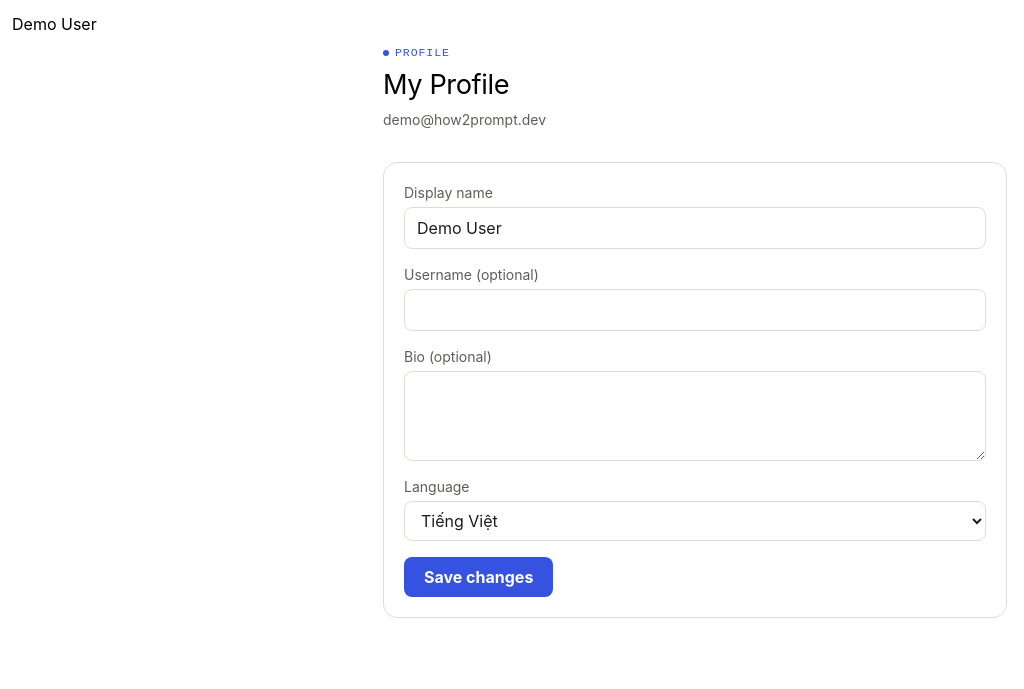
Scenario: ProfileSettingsPage › saves a display-name change and reflects it immediately without reload (Acceptance 2)
The width and height of the screenshot is (1024, 689).
Replace the text in the field labelled "Display name" with "New Name". click: {"x": 695, "y": 228}
box: [404,207,986,249]
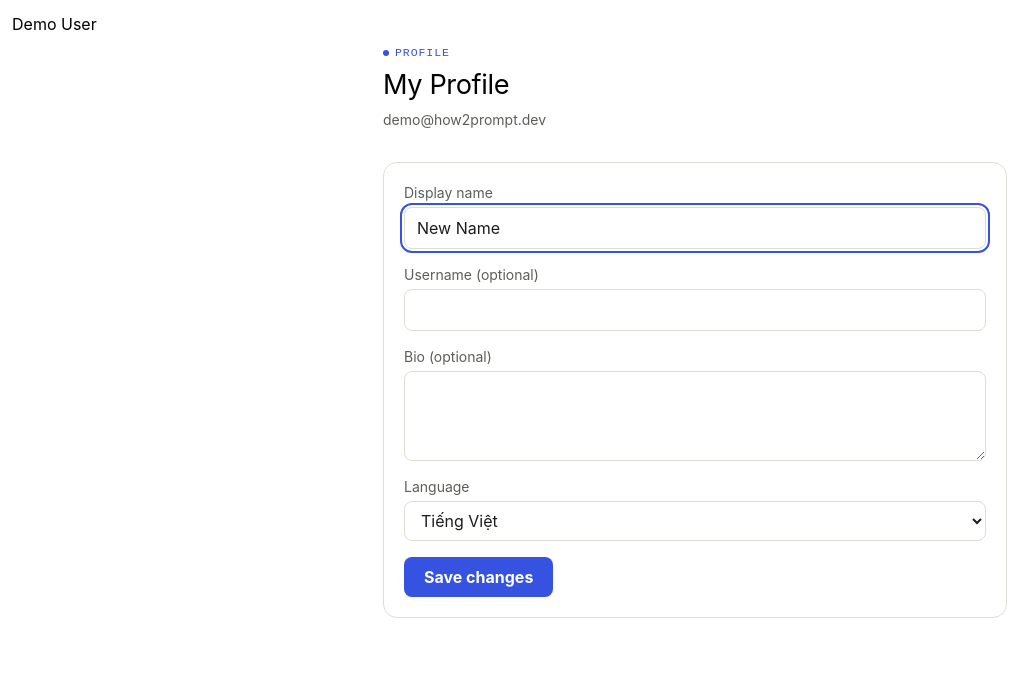
Click the button "Save changes". click: {"x": 479, "y": 577}
box: [404,557,553,597]
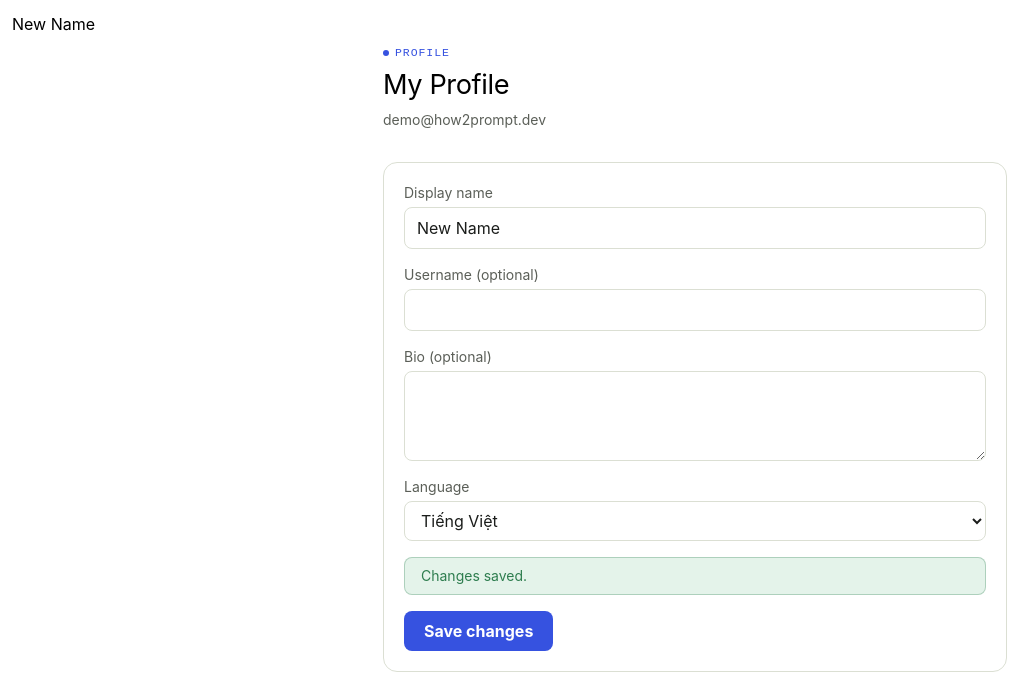
expect the message "Changes saved." is shown: met, box [404,557,986,595]
expect the text with test id "display-name" reads "New Name": met, box [12,14,95,34]
